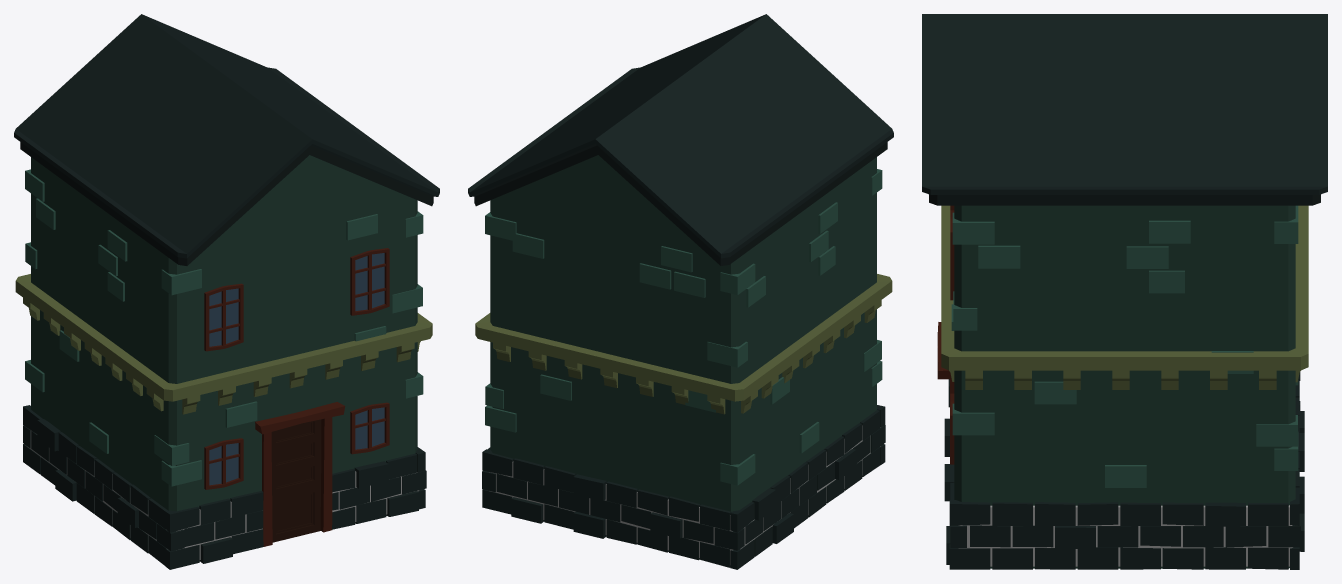
Rendered from bld_2Story_GableRoof_Mat.glb.
3 renders of one model, left to right at view 1: azimuth 30°, elevation 25°; view 2: azimuth 150°, elevation 25°; view 3: azimuth 270°, elevation 25°, orthographic. The views are drawn at different scales.
Visible parts, largest first — view 1: 2Story_GableRoof_Mat; view 2: 2Story_GableRoof_Mat; view 3: 2Story_GableRoof_Mat.
Boxes of the visible parts, x1,y1,x2,y2 form: 2Story_GableRoof_Mat: [14, 14, 439, 569]; 2Story_GableRoof_Mat: [468, 14, 893, 569]; 2Story_GableRoof_Mat: [922, 14, 1327, 569].
Size of the model in its own units: 216 by 313 by 238.
